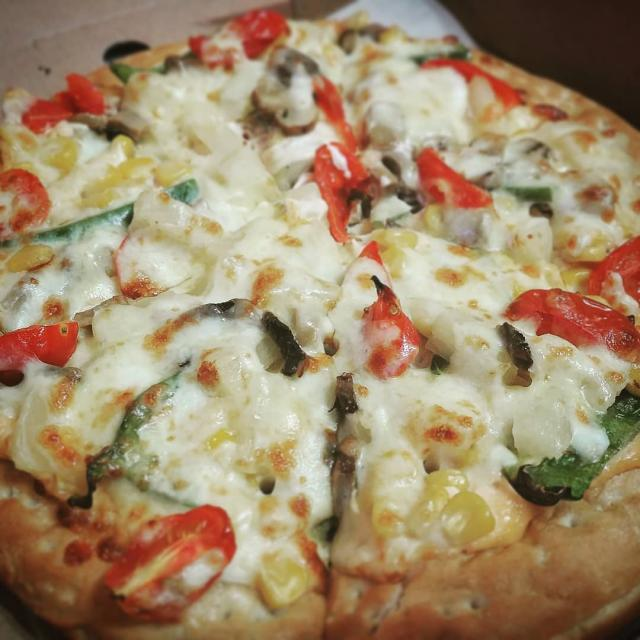basil: (68, 361, 242, 513), (488, 376, 640, 512), (0, 178, 200, 250), (103, 46, 206, 86)
pizza: (0, 9, 640, 640)
tomatoes: (100, 500, 238, 624), (499, 287, 640, 359), (357, 274, 418, 377), (190, 8, 294, 62), (312, 140, 366, 243), (420, 55, 521, 109), (415, 147, 495, 210), (0, 165, 52, 242), (0, 319, 81, 368), (584, 234, 640, 299), (315, 75, 355, 147), (66, 73, 106, 116), (23, 98, 73, 130)
